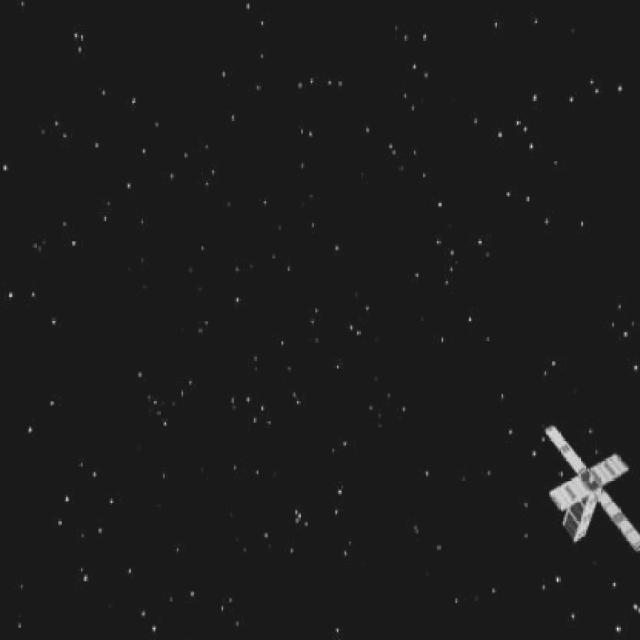medium_debris: (540, 420, 640, 555)
